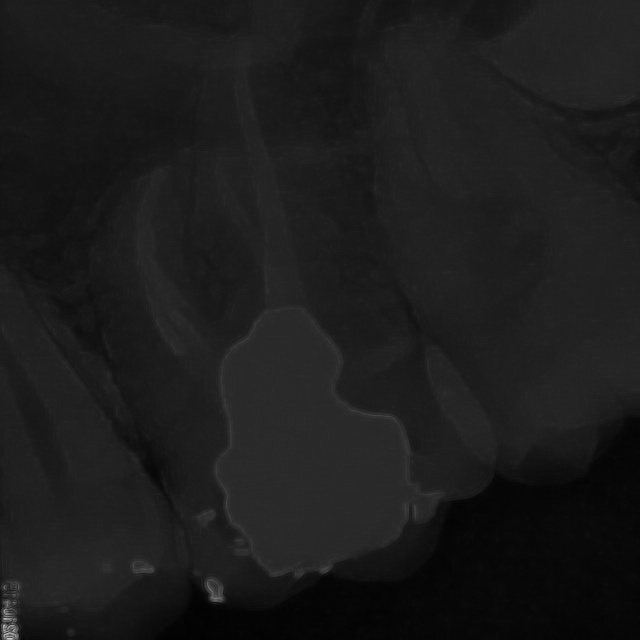Class 0- No endodontic treatment: (42, 37, 516, 618)
